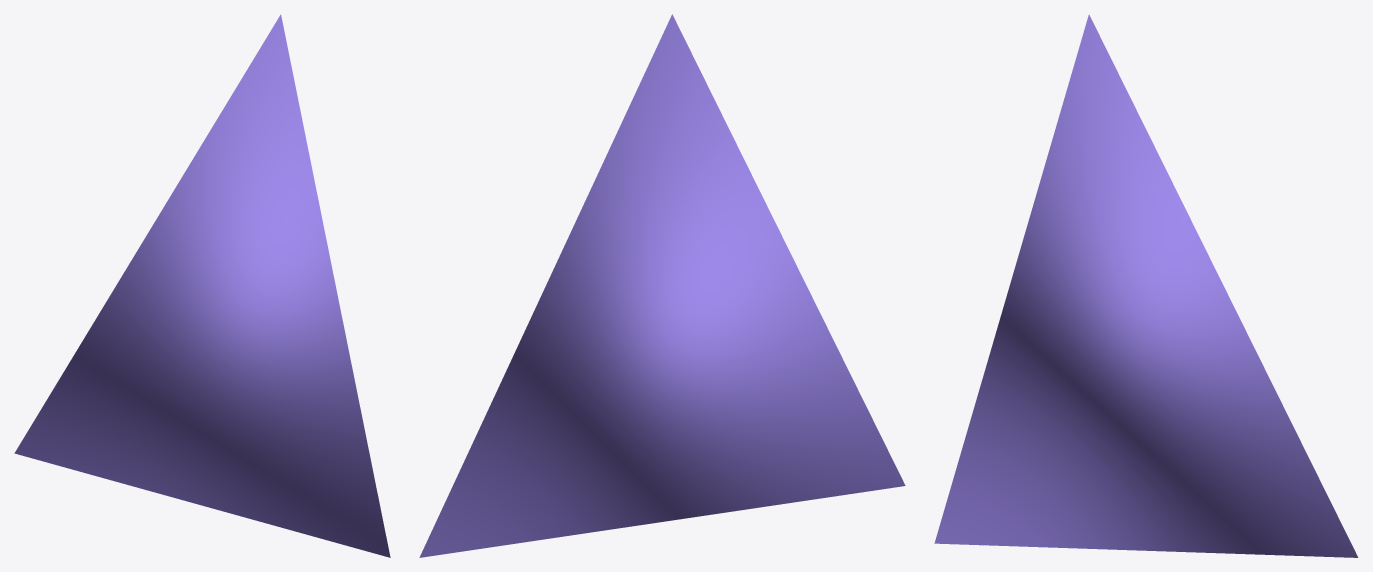
Rendered from rockSmall_low.glb.
3 renders of one model, left to right at view 1: azimuth 30°, elevation 25°; view 2: azimuth 150°, elevation 25°; view 3: azimuth 270°, elevation 25°, orthographic. The views are drawn at different scales.
Parts seen in each view (by area): view 1: Icosphere; view 2: Icosphere; view 3: Icosphere.
Boxes of the visible parts, x1=… form: Icosphere: x1=14, y1=14, x2=390, y2=557; Icosphere: x1=419, y1=14, x2=905, y2=557; Icosphere: x1=934, y1=14, x2=1358, y2=557.
Size of the model in its own units: 0.1189 by 0.1539 by 0.1154.
